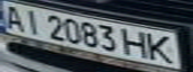0: (60, 16, 84, 45)
2: (42, 12, 66, 42)
3: (96, 23, 121, 53)
8: (78, 20, 100, 48)
A: (0, 2, 27, 32)
H: (121, 28, 151, 58)
I: (21, 7, 45, 35)
K: (142, 31, 178, 64)
